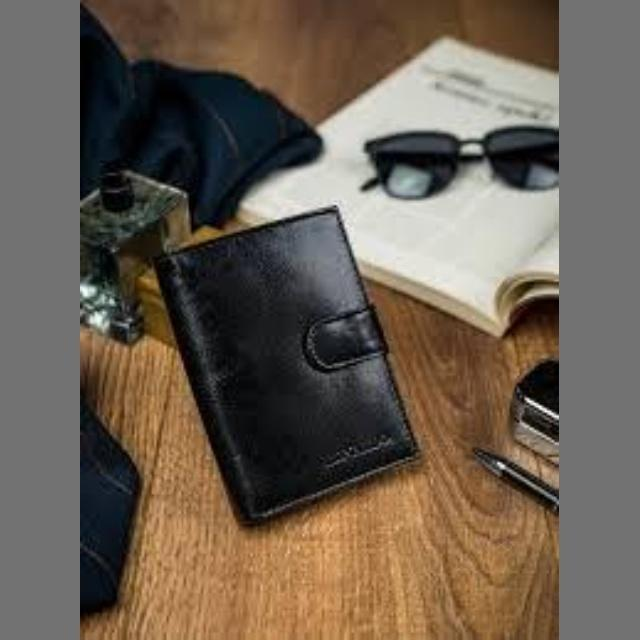Wallet: (146, 212, 467, 520)
